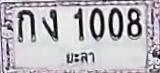0: (89, 7, 104, 40), (108, 7, 122, 40)
1: (73, 7, 83, 40)
8: (126, 7, 141, 38)
A01: (16, 9, 36, 42)
A07: (41, 8, 57, 41)
YLA: (61, 50, 99, 66)
